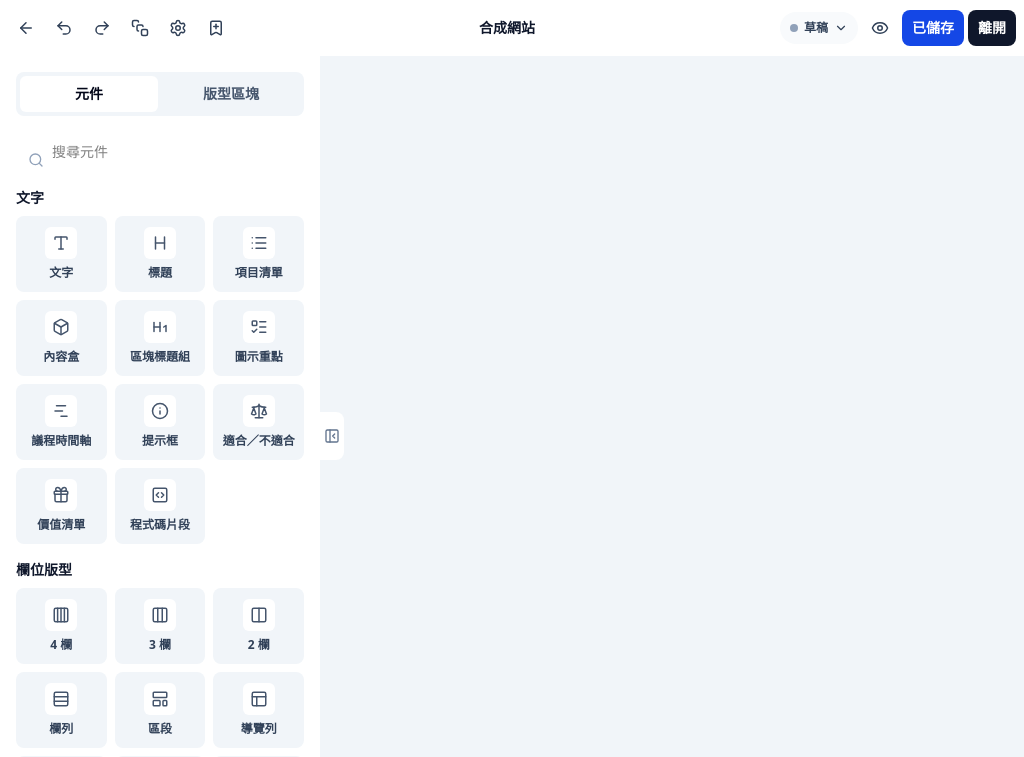
Scenario: landing page workspace save state › derives dirty from the saved snapshot, so undoing back to it disables 儲存 again
The image size is (1024, 757).
expect the button "已儲存" is disabled: met, box [902,10,964,46]
Click the button "區段": (160, 710) [115,672,205,748]
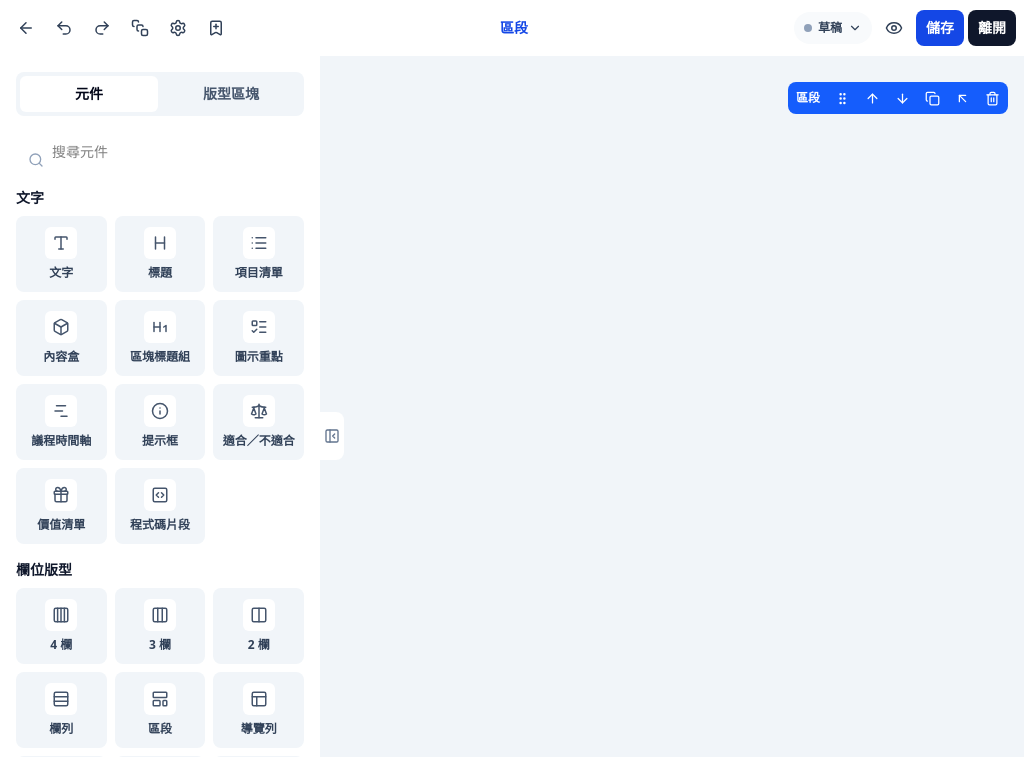
expect the button "儲存" is enabled: met, box [916,10,964,46]
Click the button named "復原": (64, 28) [46,10,82,46]
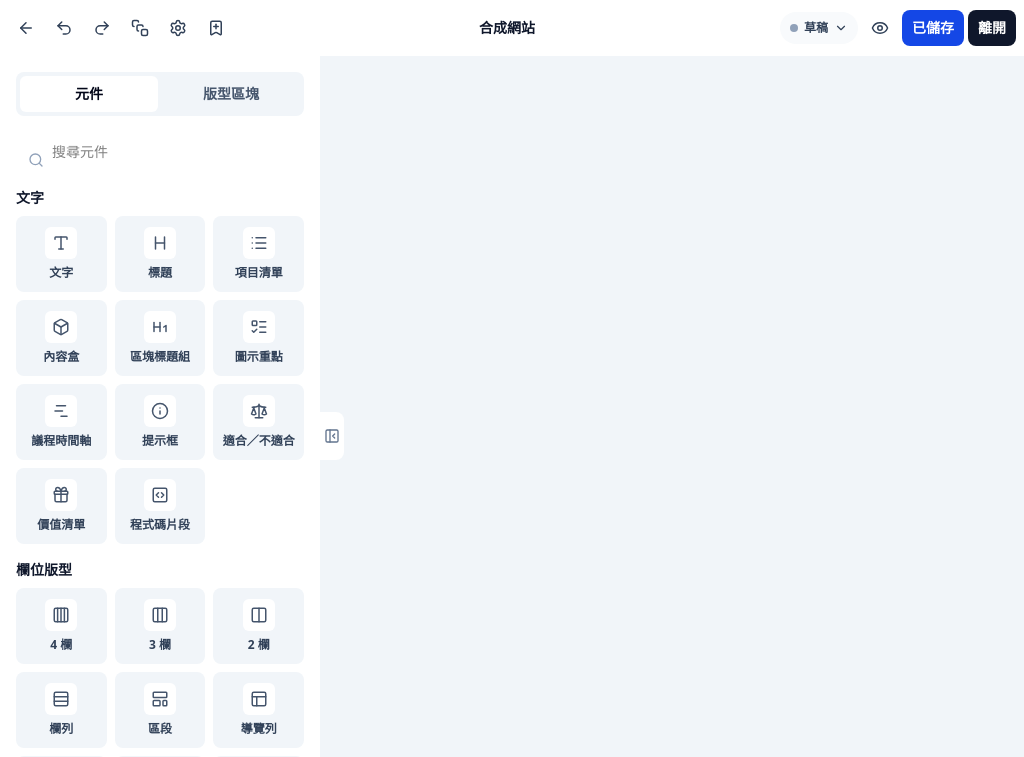
expect the button "已儲存" is disabled: met, box [902,10,964,46]
